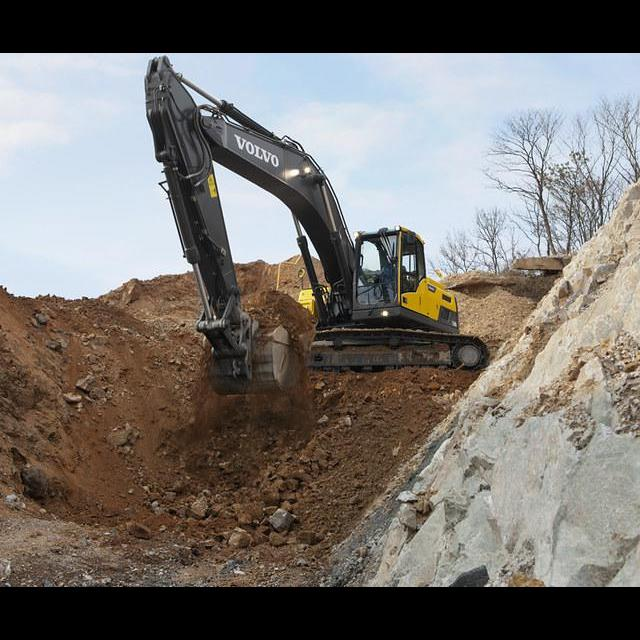Excavator: (146, 56, 491, 395)
Person: (387, 257, 407, 283)
